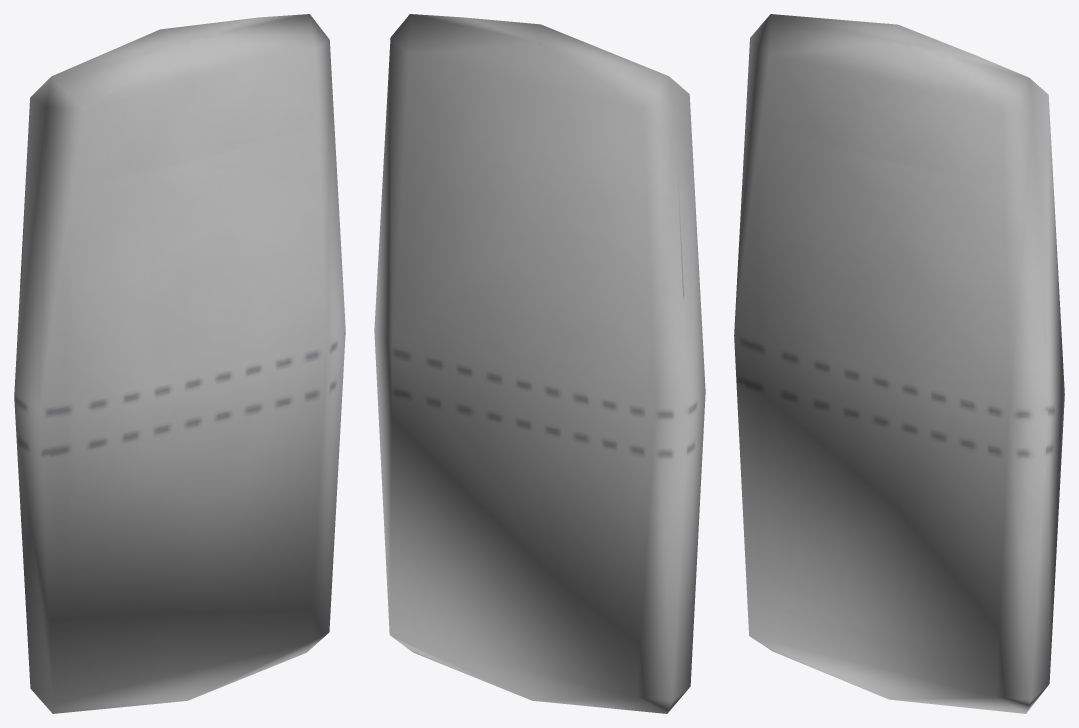
The model's file is RightHand_C1.fbx.
3 views of the same model, side by side, from view 1: azimuth 30°, elevation 25°; view 2: azimuth 150°, elevation 25°; view 3: azimuth 330°, elevation 25° (orthographic).
Parts seen in each view (by area): view 1: Civ_Telefono_RightHand_C1; view 2: Civ_Telefono_RightHand_C1; view 3: Civ_Telefono_RightHand_C1.
Part boxes in pixels (x1,y1,x2,y2): Civ_Telefono_RightHand_C1: (14, 14, 345, 713); Civ_Telefono_RightHand_C1: (374, 14, 705, 713); Civ_Telefono_RightHand_C1: (734, 14, 1064, 713).
Size of the model in its own units: 0.2723 by 0.5468 by 0.0563.
